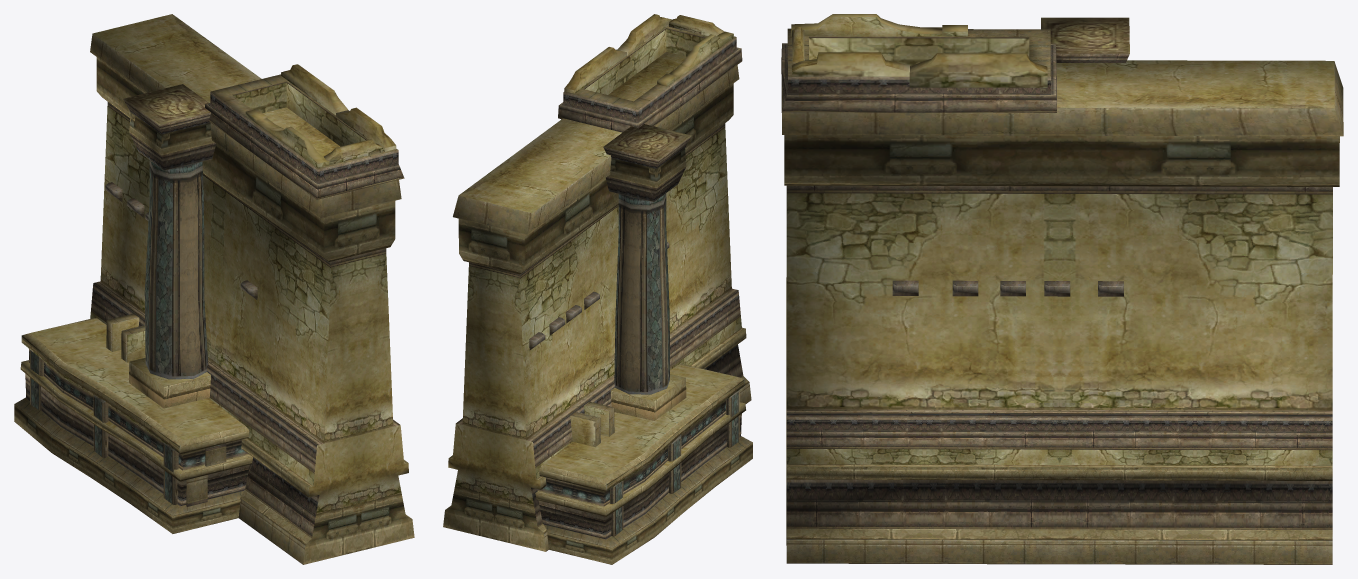
File: S_Build_Wilderness019.FBX
The picture shows the model from 3 angles, left to right: view 1: azimuth 30°, elevation 25°; view 2: azimuth 150°, elevation 25°; view 3: azimuth 270°, elevation 25°; orthographic projection. The views are drawn at different scales.
Visible parts, largest first — view 1: S_Build_Wilderness019; view 2: S_Build_Wilderness019; view 3: S_Build_Wilderness019.
Part boxes in pixels (x1,y1,x2,y2): S_Build_Wilderness019: (14,14,414,564); S_Build_Wilderness019: (443,14,752,564); S_Build_Wilderness019: (781,14,1343,564).
Size of the model in its own units: 268 by 578 by 565.
